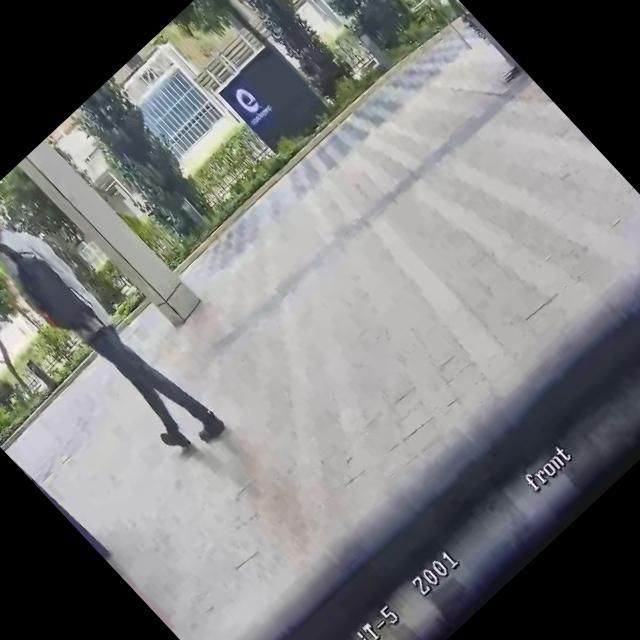person: (0, 181, 230, 471)
